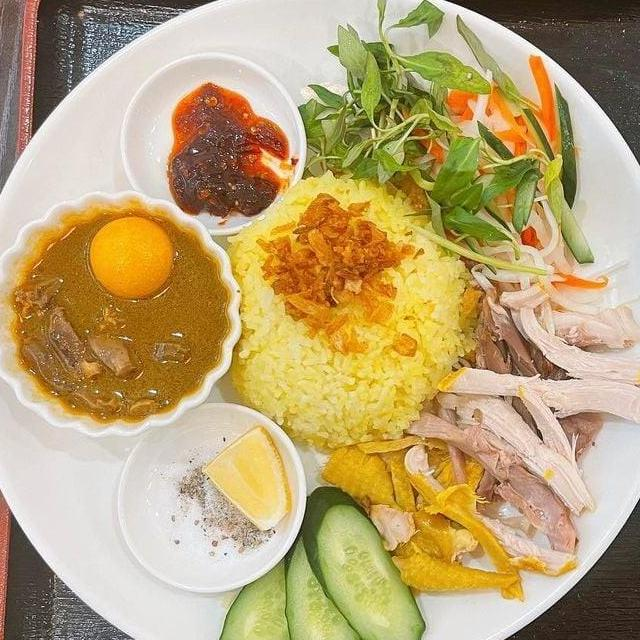com: (216, 166, 484, 454)
rau ram: (288, 0, 499, 193), (396, 112, 564, 268)
thit ga: (313, 404, 602, 606), (396, 359, 640, 560), (460, 277, 640, 390)
trung: (84, 208, 180, 304)
